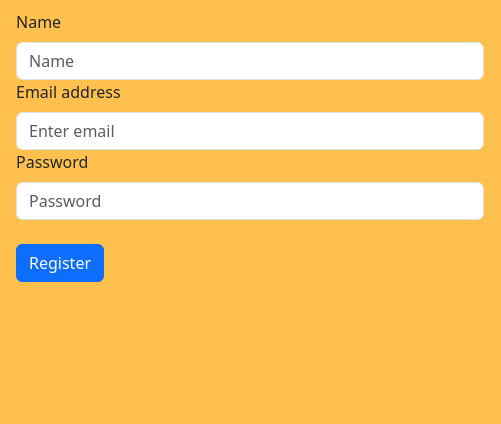
Scenario: submits form data and handles the register response
Type "Test User" into the field labelled "Name" at [250, 61], box [16,42,484,80]
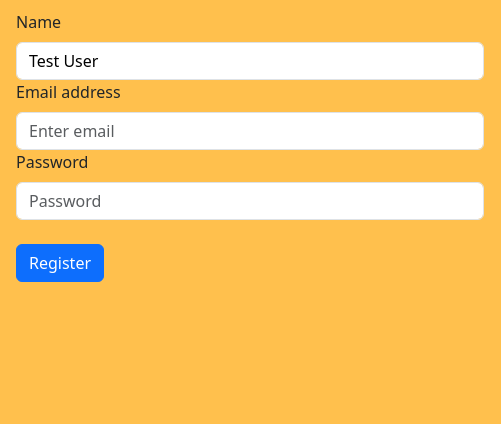
Type "test@example.com" into the field labelled "Email address" at [250, 131], box [16,112,484,150]
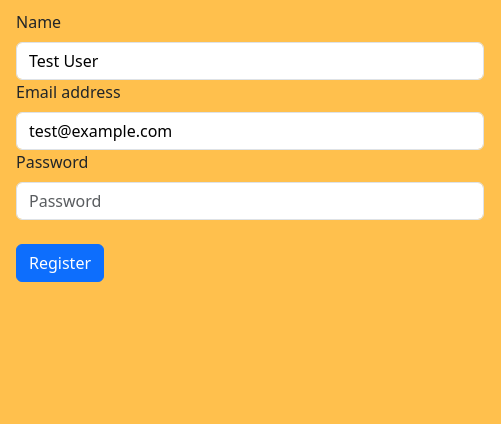
Type "password" into the password field labelled "Password" at [250, 201], box [16,182,484,220]
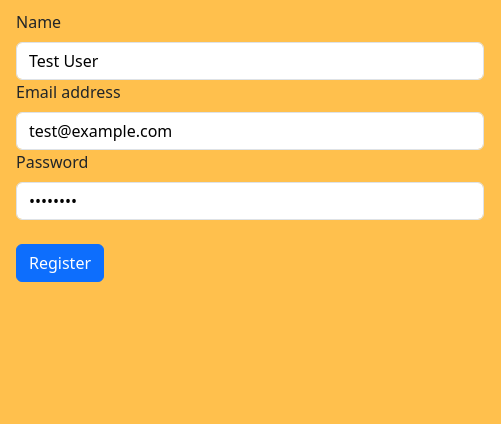
Submit the form
Click the button "Register" at [60, 263], box [16,244,104,282]
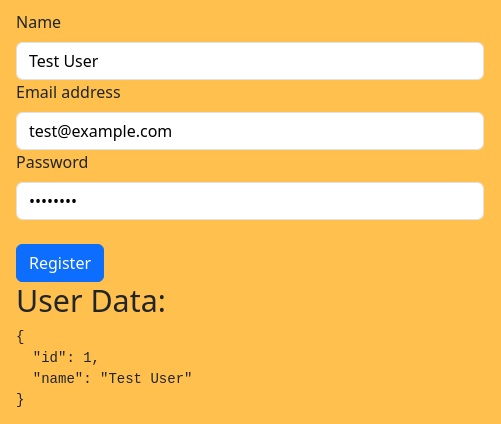
Expected: the heading "User Data:" is shown, [16,279,166,321]
Expected: the text "{ \"id\": 1, \"name\": \"Test User\" }" is shown, [16,328,192,408]
